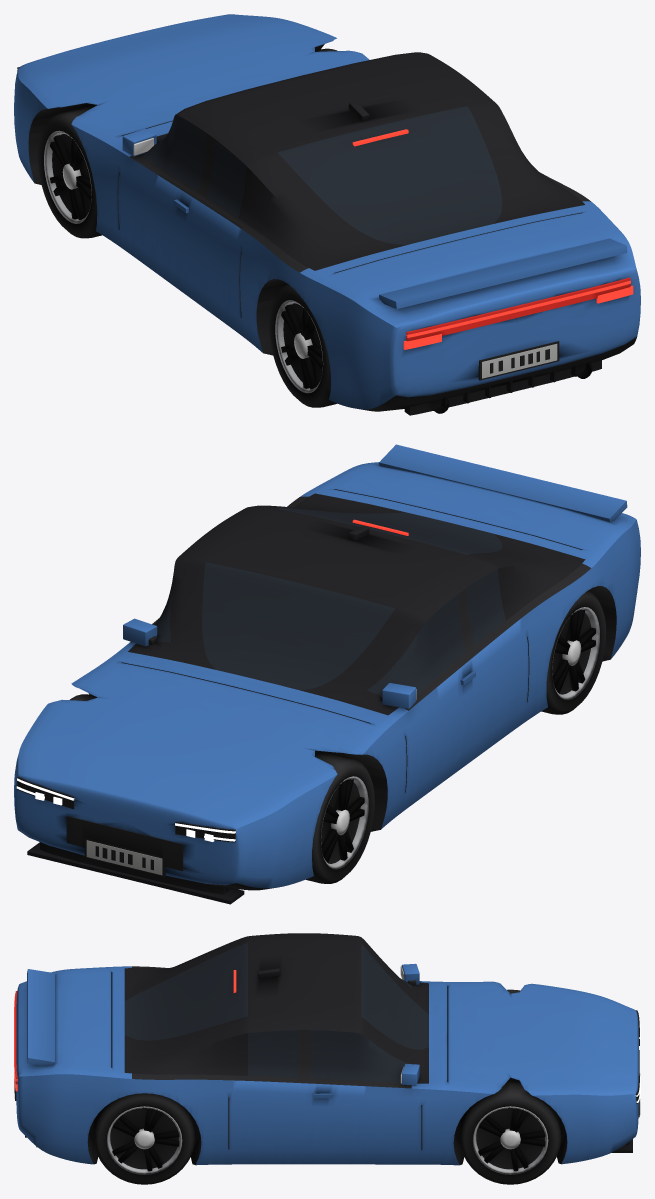
Rendered from vanta.glb.
3 views of the same model, one above another, from view 1: azimuth 30°, elevation 25°; view 2: azimuth 150°, elevation 25°; view 3: azimuth 270°, elevation 25° (orthographic). The views are drawn at different scales.
Visible parts, largest first — view 1: Body, Details, Wheel_FL, Wheel_RL, Rounded; view 2: Body, Details, Wheel_FL, Wheel_RL, Rounded; view 3: Body, Wheel_FR, Wheel_RR, Details, Rounded.
Boxes of the visible parts, x1=… form: Body: x1=14, y1=14, x2=640, y2=411; Details: x1=17, y1=67, x2=633, y2=415; Wheel_FL: x1=37, y1=107, x2=101, y2=238; Wheel_RL: x1=269, y1=284, x2=337, y2=407; Rounded: x1=122, y1=101, x2=369, y2=156; Body: x1=14, y1=462, x2=640, y2=890; Details: x1=16, y1=444, x2=627, y2=904; Wheel_FL: x1=306, y1=752, x2=374, y2=883; Wheel_RL: x1=541, y1=591, x2=606, y2=714; Rounded: x1=123, y1=526, x2=416, y2=708; Body: x1=16, y1=933, x2=638, y2=1165; Wheel_FR: x1=459, y1=1081, x2=561, y2=1184; Wheel_RR: x1=93, y1=1093, x2=195, y2=1184; Details: x1=14, y1=969, x2=640, y2=1152; Rounded: x1=257, y1=963, x2=419, y2=1085.
Bounding box in the file's own units: 1.98 × 1.31 × 4.56.
